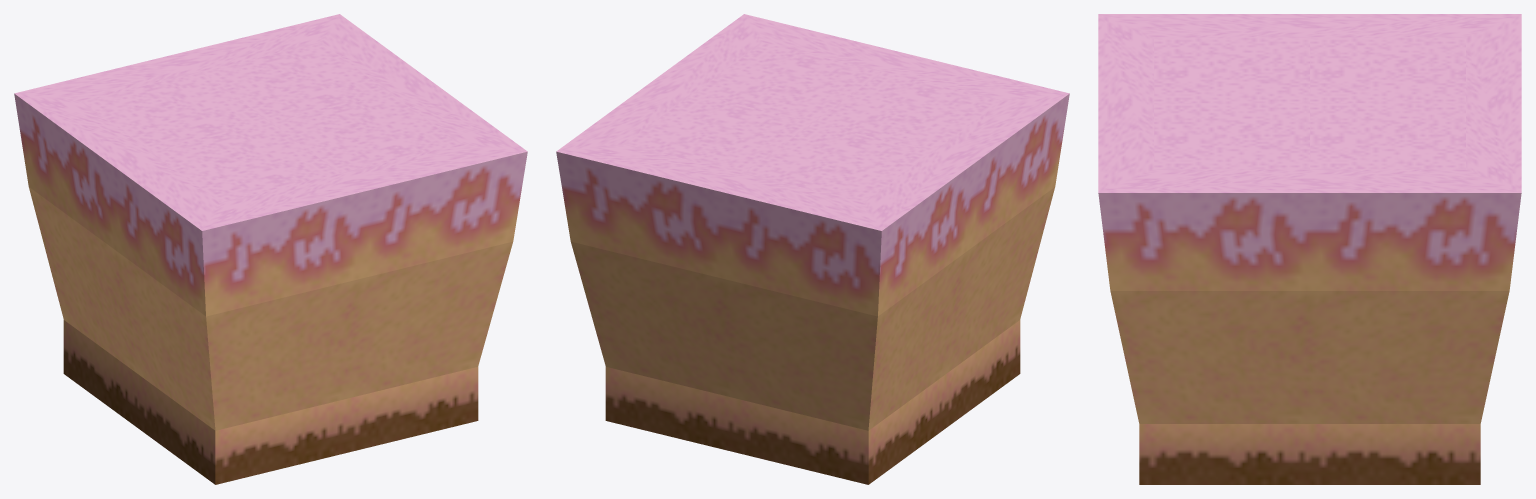
File: SM_TextureTesting.fbx
The picture shows the model from 3 angles, left to right: view 1: azimuth 30°, elevation 25°; view 2: azimuth 150°, elevation 25°; view 3: azimuth 270°, elevation 25°; orthographic projection. The views are drawn at different scales.
Parts seen in each view (by area): view 1: Cube; view 2: Cube; view 3: Cube.
Boxes of the visible parts, x1,y1,x2,y2 form: Cube: [14, 14, 527, 484]; Cube: [556, 14, 1069, 484]; Cube: [1098, 14, 1521, 484].
Size of the model in its own units: 248 by 200 by 248.
